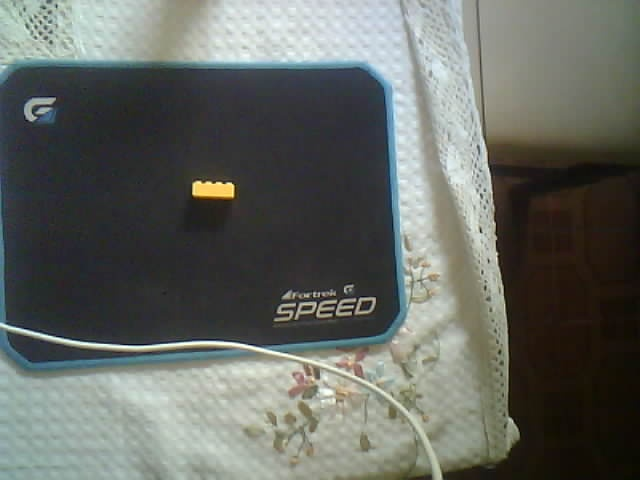lego: (191, 179, 235, 202)
